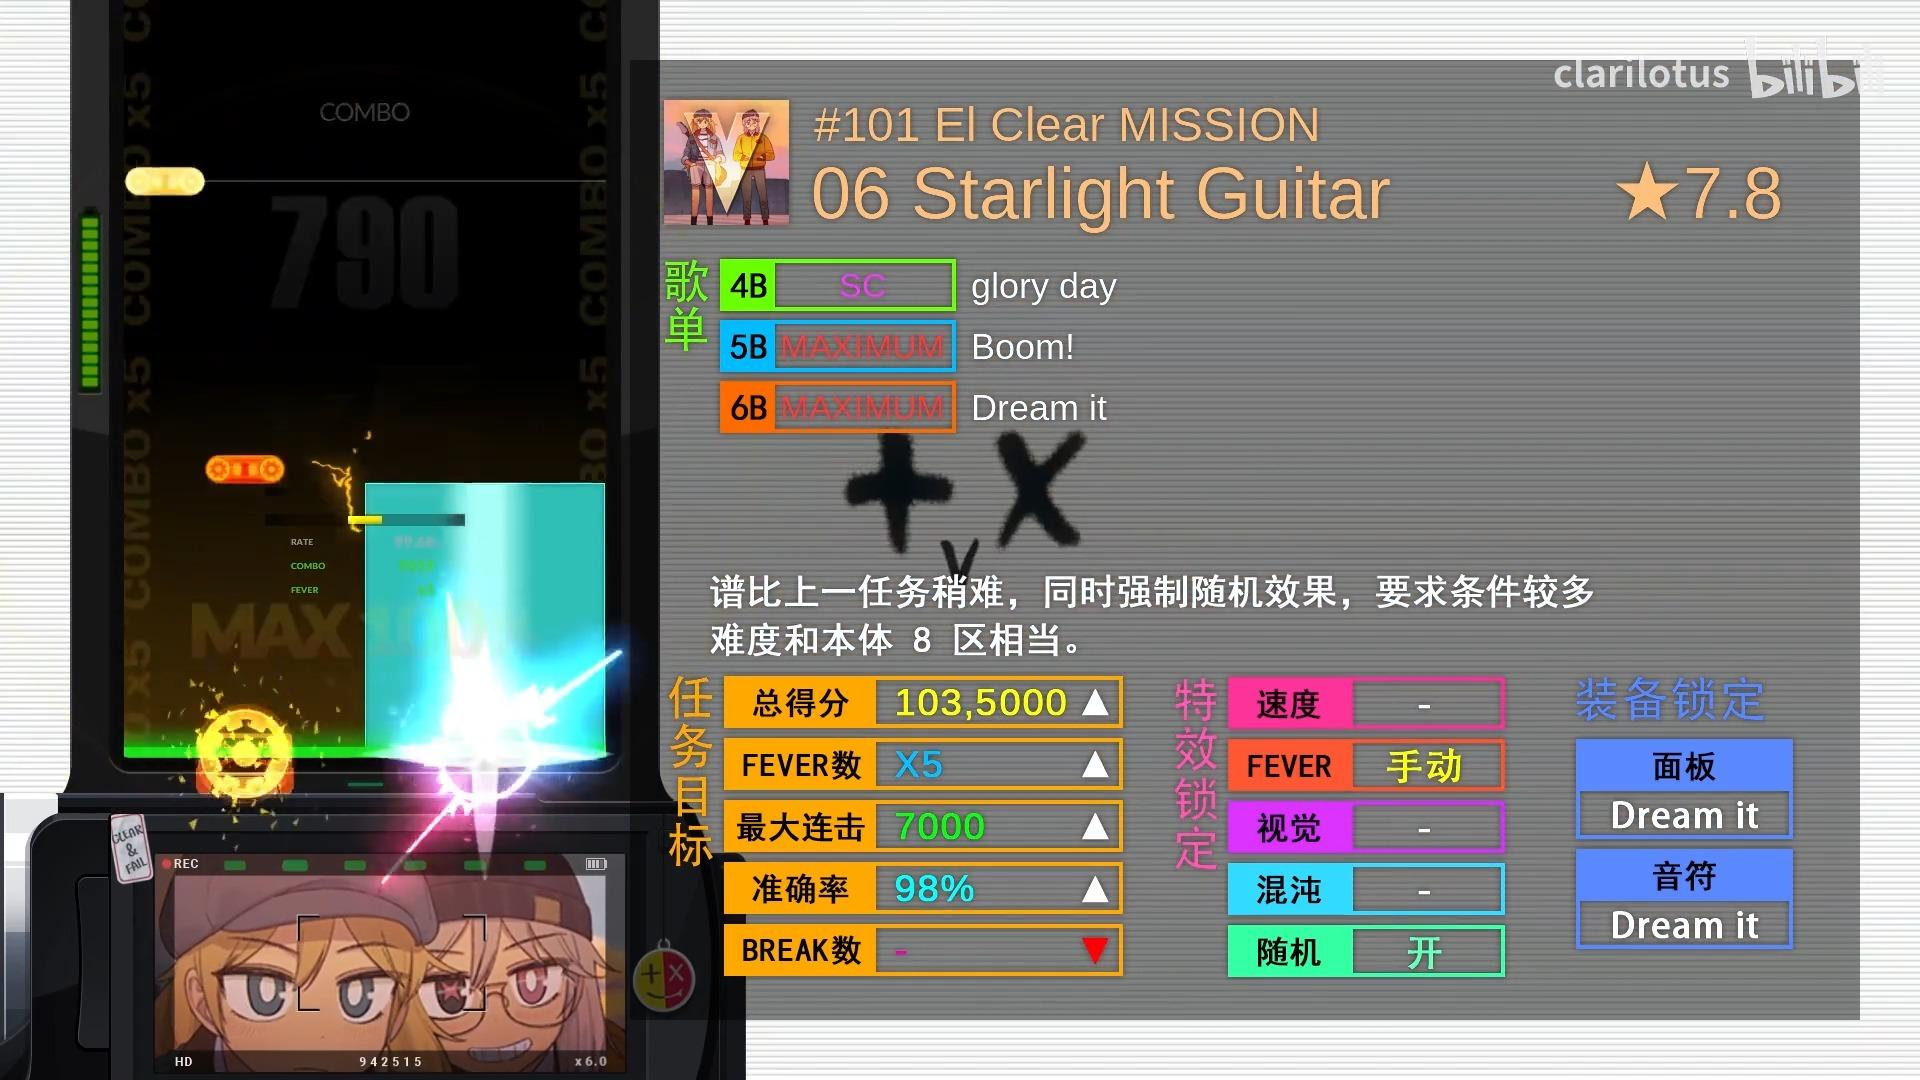note: (204, 455, 284, 485), (125, 167, 204, 196)
side-end: (364, 481, 605, 513)
